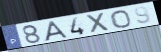4: (70, 17, 86, 36)
8: (22, 24, 42, 45)
9: (133, 6, 153, 25)
A: (44, 20, 70, 42)
O: (109, 9, 133, 29)
X: (85, 11, 112, 34)
